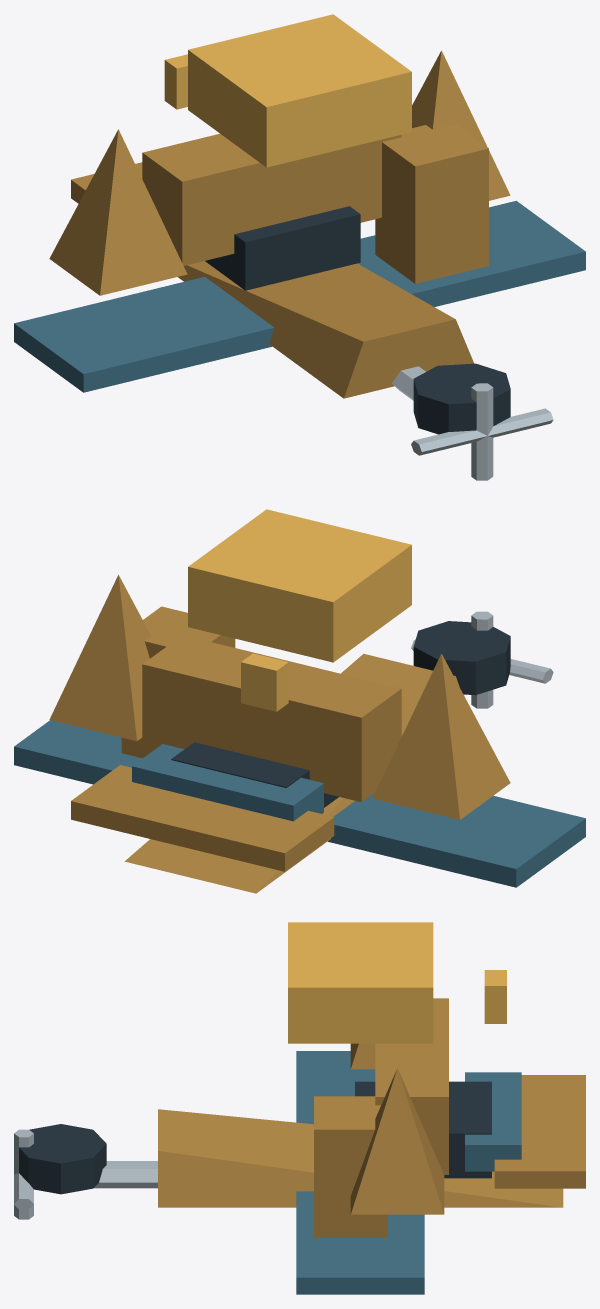
The model's file is interceptor.obj.
3 renders of one model, top to bottom at view 1: azimuth 30°, elevation 25°; view 2: azimuth 150°, elevation 25°; view 3: azimuth 270°, elevation 25°, orthographic. The views are drawn at different scales.
Parts seen in each view (by area): view 1: air; view 2: air; view 3: air.
Part boxes in pixels (x1,y1,x2,y2): air: (14,14,585,480); air: (14,509,585,893); air: (14,922,585,1294).
Bounding box in the file's own units: 2.18 × 1.17 × 2.33.
